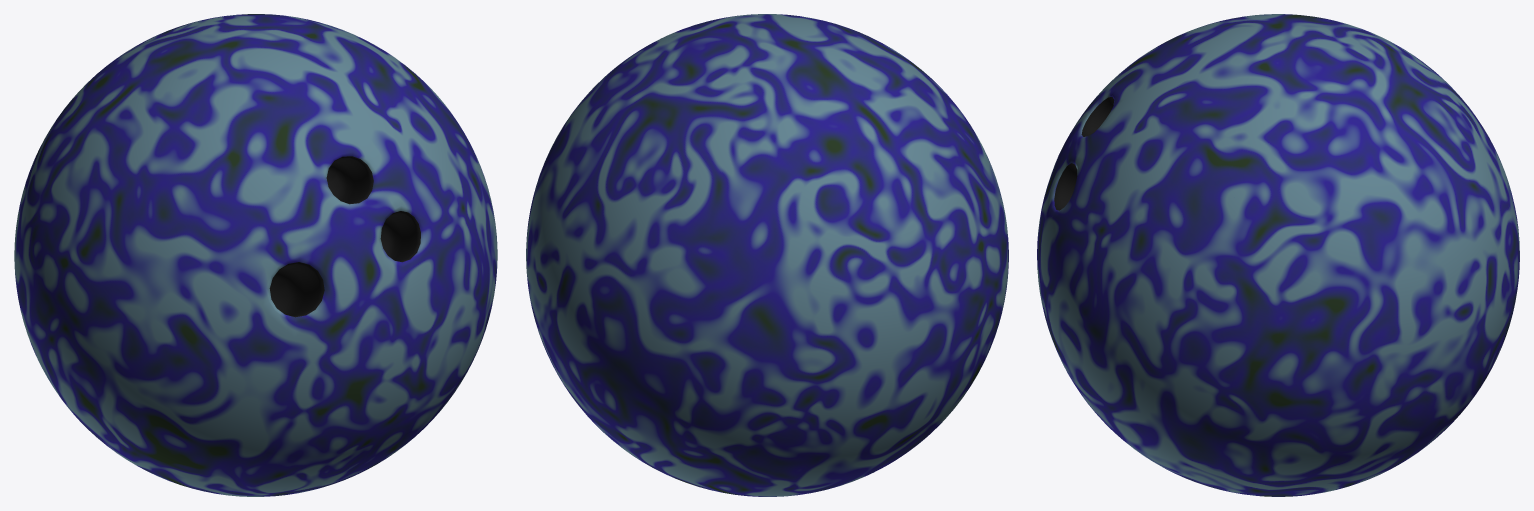
File: BlueBowlingBall.glb
3 views of the same model, side by side, from view 1: azimuth 30°, elevation 25°; view 2: azimuth 150°, elevation 25°; view 3: azimuth 270°, elevation 25° (orthographic).
Visible parts, largest first — view 1: Sphere.002; view 2: Sphere.002; view 3: Sphere.002.
Part boxes in pixels (bbox=[...]): Sphere.002: bbox=[14, 14, 497, 496]; Sphere.002: bbox=[526, 14, 1008, 496]; Sphere.002: bbox=[1037, 14, 1519, 496].
Size of the model in its own units: 2 by 1.99 by 1.99.
2 materials, 1 textured.
